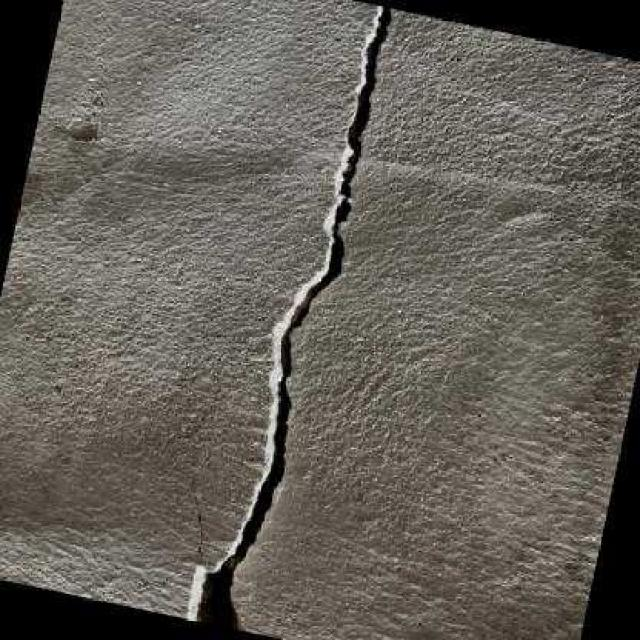D00: (197, 5, 393, 629)
